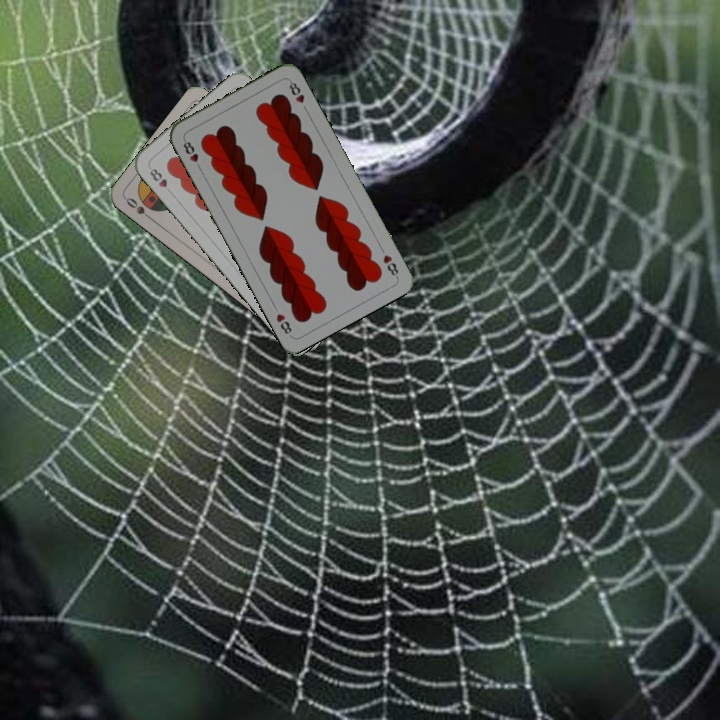H8: (145, 163, 175, 197), (179, 135, 204, 172), (379, 250, 401, 280)
SO: (121, 193, 156, 224)
